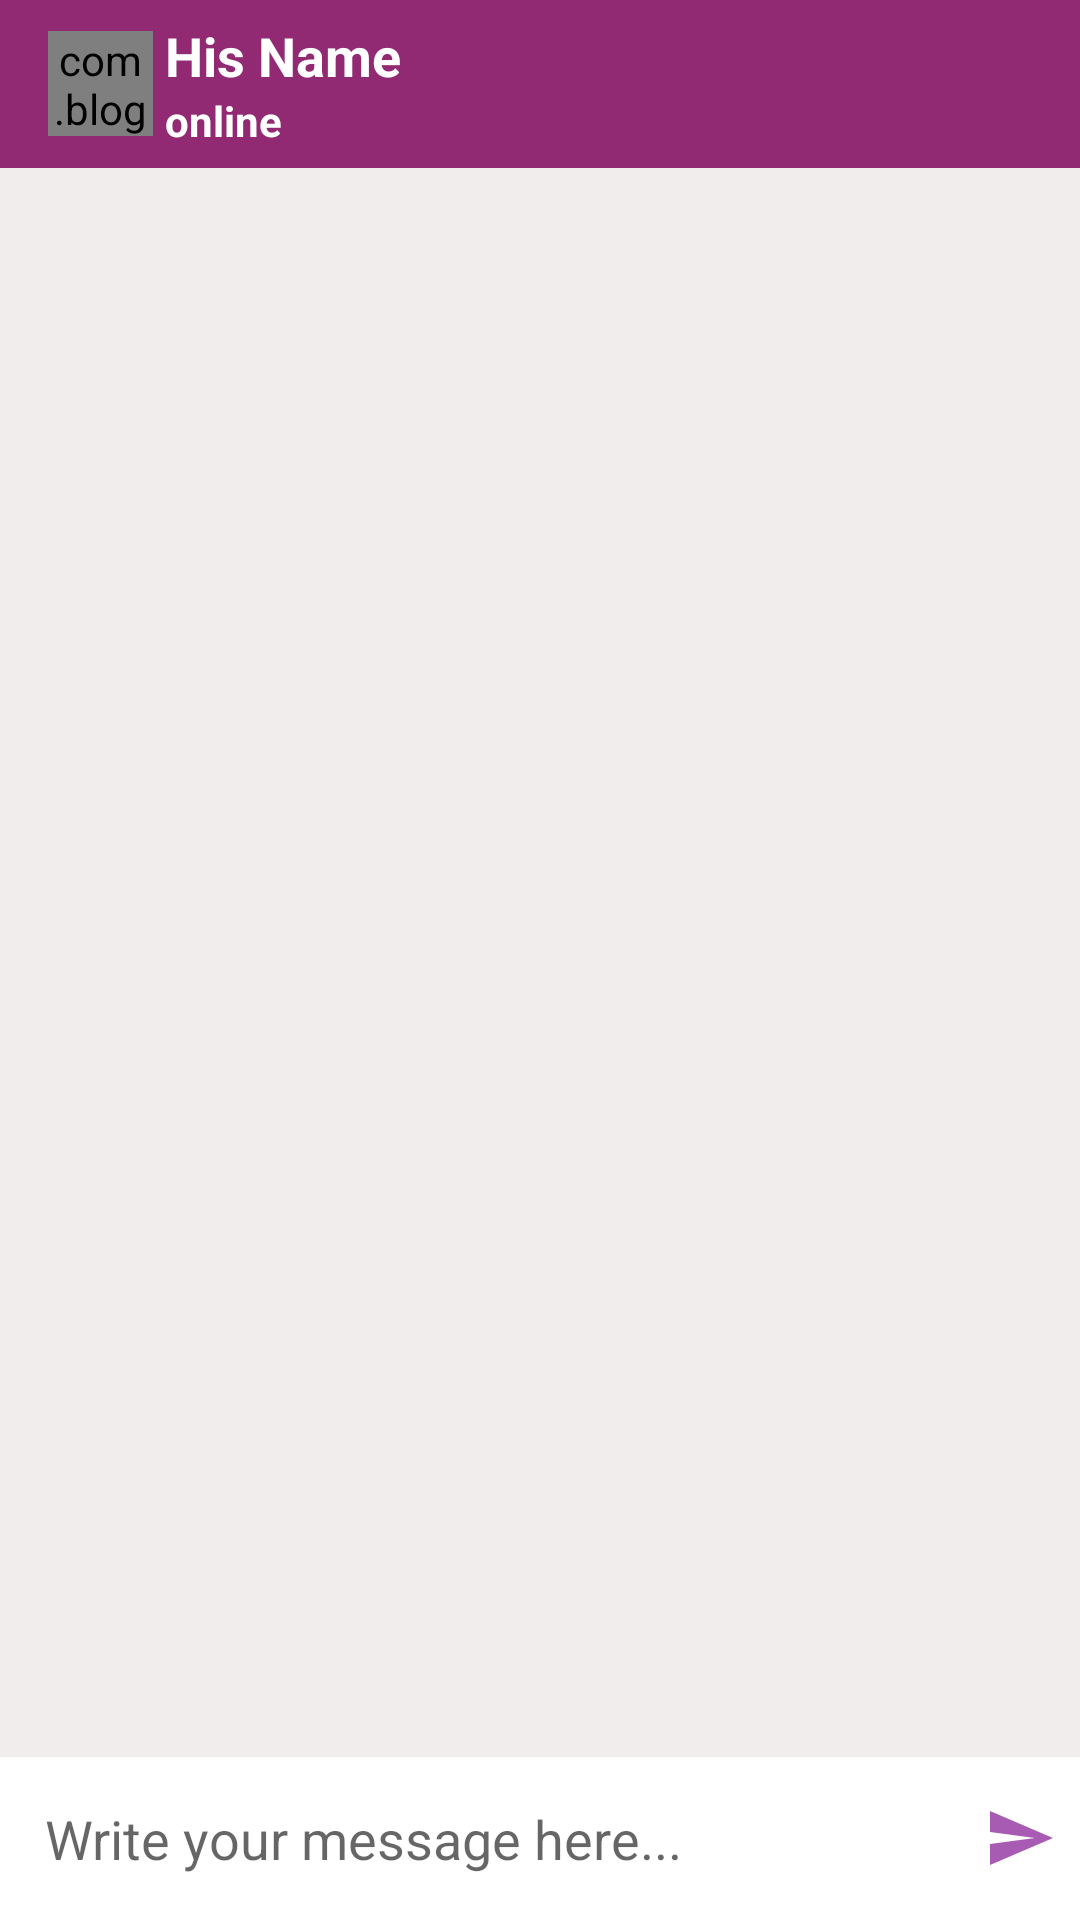

Screen size 1080x1920. Icon name, then its box in pixels as BBox(x1, y1, x2, y2):
send: BBox(990, 1811, 1053, 1865)
